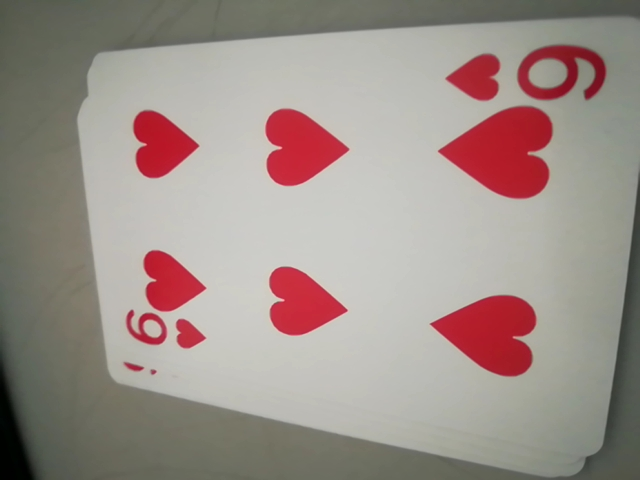hx 6: (444, 34, 609, 110), (116, 305, 201, 368)
